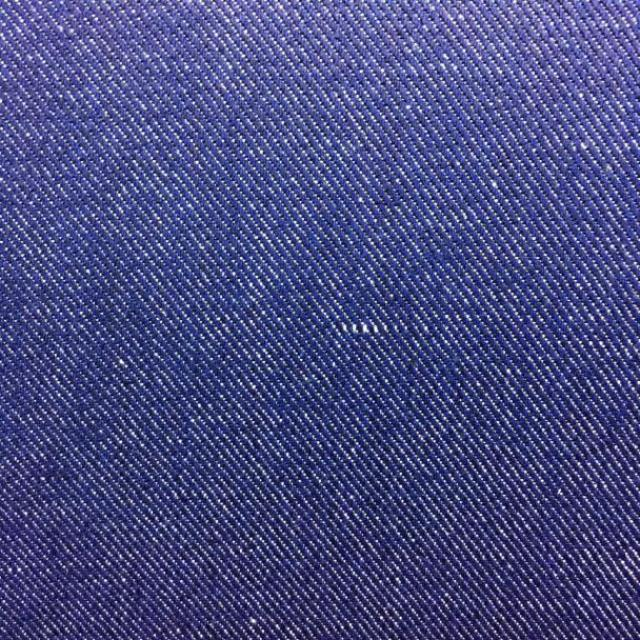Knot: (339, 321, 398, 336)
